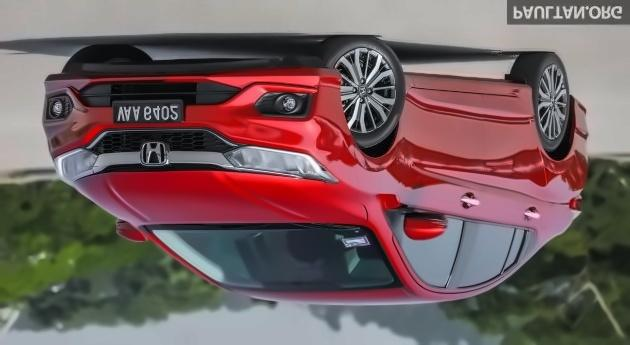Car hood: (68, 166, 369, 231)
Driver-s door - -F-R-: (402, 84, 484, 297)
Fender - -F-R-: (324, 74, 415, 229)
Fender - -R-R-: (529, 84, 574, 216)
Front bumper: (28, 61, 356, 158)
Headlight - -L-: (49, 143, 102, 191)
Headlight - -R-: (217, 142, 343, 187)
Passenger-s door - -R-R-: (484, 88, 548, 294)
Rear bumper: (569, 94, 597, 176)
Rear light - -R-: (563, 185, 588, 214)
Side bumper - -R-: (398, 69, 535, 102)
Side mirror - -L-: (99, 213, 152, 249)
Side mirror - -R-: (399, 202, 450, 246)
